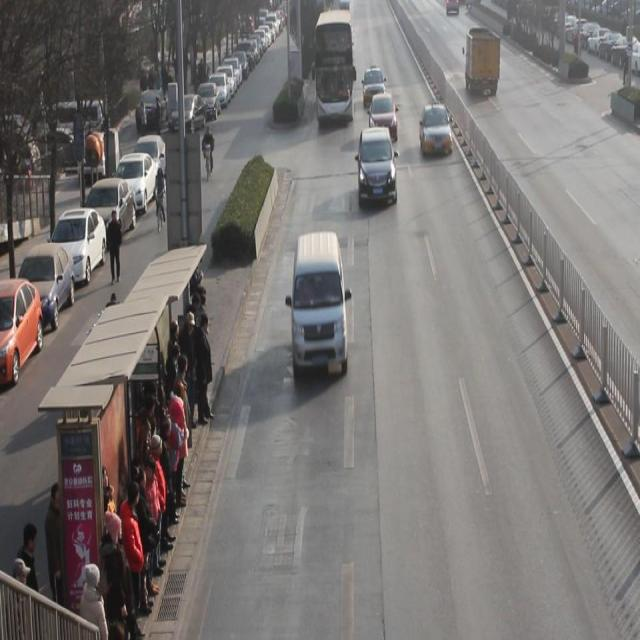bus: (466, 28, 501, 98)
car: (359, 128, 398, 210), (420, 105, 454, 159), (370, 92, 399, 142), (363, 67, 387, 108)
truck: (292, 234, 349, 382)
van: (315, 12, 354, 128)
